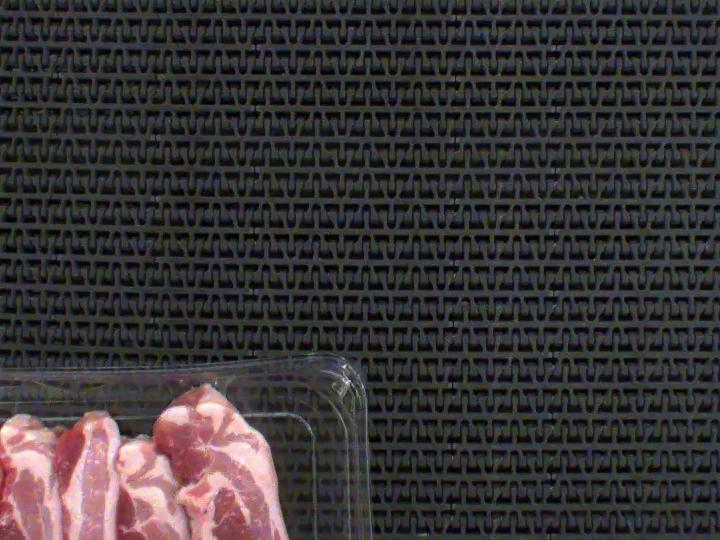packaging-error: (174, 371, 262, 398)
